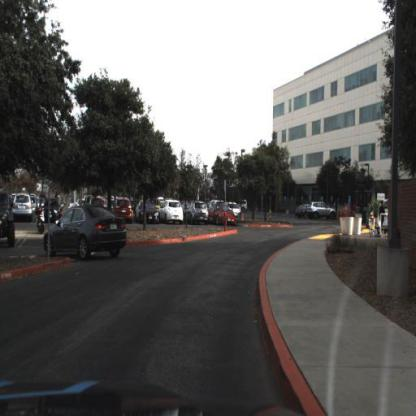car: (45, 202, 129, 265), (183, 196, 212, 225), (209, 200, 238, 229), (11, 188, 34, 223), (160, 197, 187, 226), (134, 197, 159, 226), (113, 194, 136, 224), (307, 201, 339, 222), (228, 201, 242, 219), (239, 197, 250, 218)
pedestrian: (378, 197, 388, 237)
